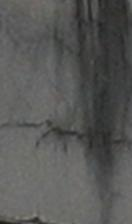fissura: (4, 109, 129, 160)
